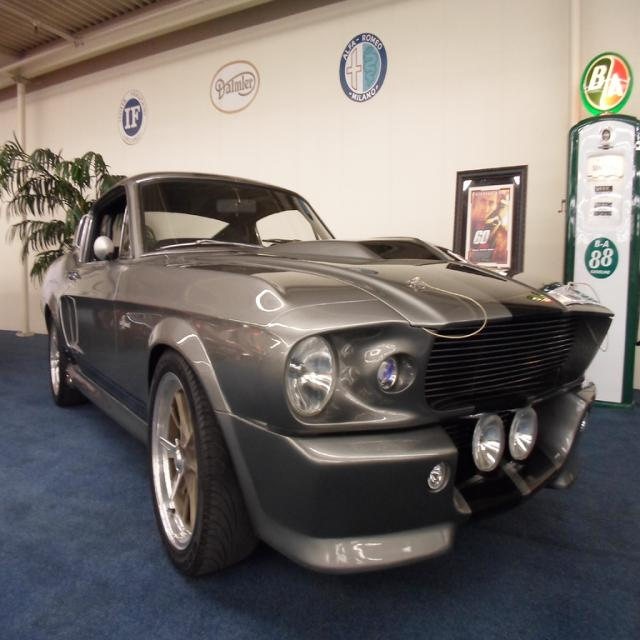car: (37, 173, 612, 581)
